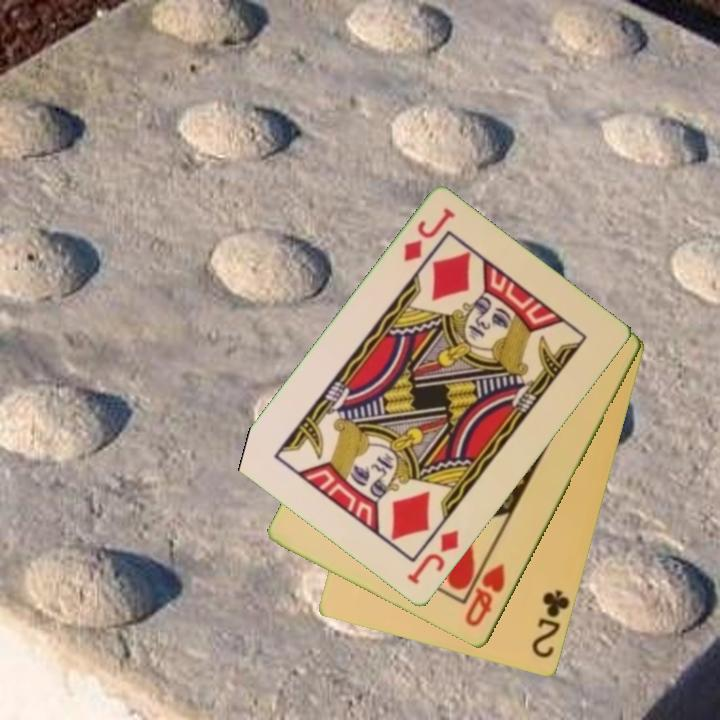2c: (528, 586, 573, 662)
Jd: (403, 526, 462, 589), (400, 204, 458, 266)
Qh: (461, 561, 509, 631)
